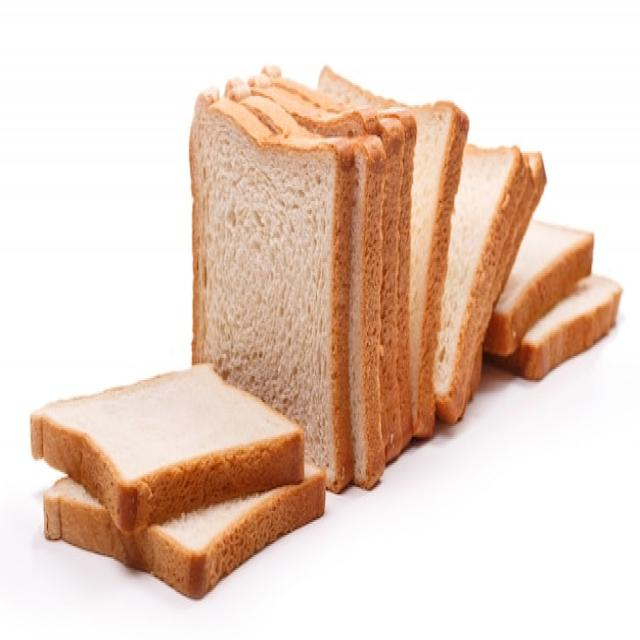Bread: (190, 95, 354, 490), (31, 363, 304, 532), (44, 465, 325, 596), (434, 144, 532, 423), (409, 101, 469, 439), (484, 221, 594, 355), (490, 275, 621, 378), (349, 135, 386, 488), (319, 65, 401, 117)
